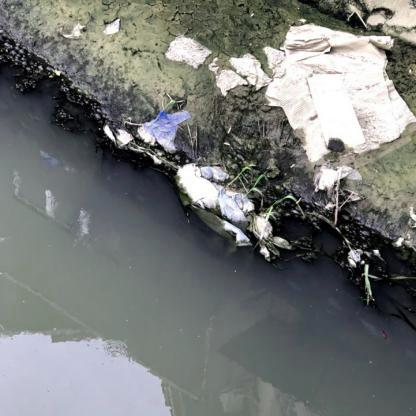Trash: (304, 71, 368, 150), (137, 106, 194, 156)
